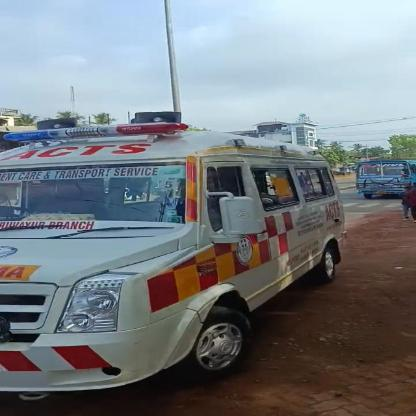priority: (0, 98, 358, 410)
